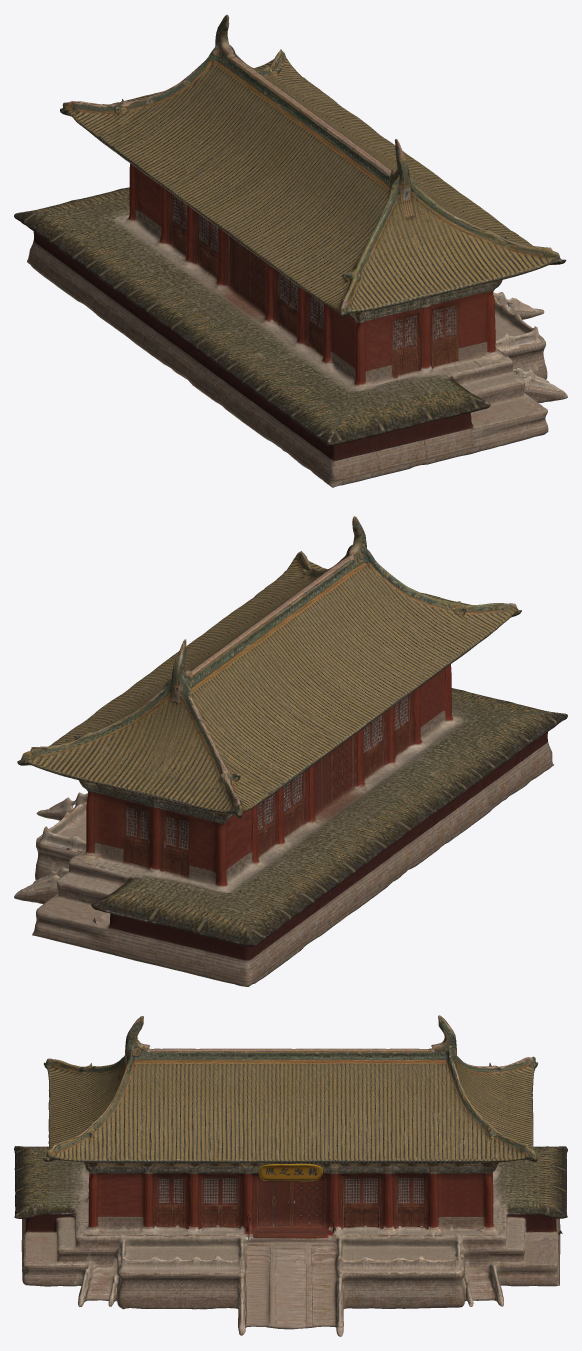
The model's file is hall-a.fbx.
3 views of the same model, one above another, from view 1: azimuth 30°, elevation 25°; view 2: azimuth 150°, elevation 25°; view 3: azimuth 270°, elevation 25° (orthographic). The views are drawn at different scales.
Parts seen in each view (by area): view 1: tripo_node_9f9ad2b3; view 2: tripo_node_9f9ad2b3; view 3: tripo_node_9f9ad2b3.
Boxes of the visible parts, x1,y1,x2,y2 form: tripo_node_9f9ad2b3: [14, 14, 567, 487]; tripo_node_9f9ad2b3: [14, 516, 567, 986]; tripo_node_9f9ad2b3: [14, 1015, 567, 1336].
Bounding box in the file's own units: 62.98 × 46.45 × 99.2.
1 material, 1 textured.
